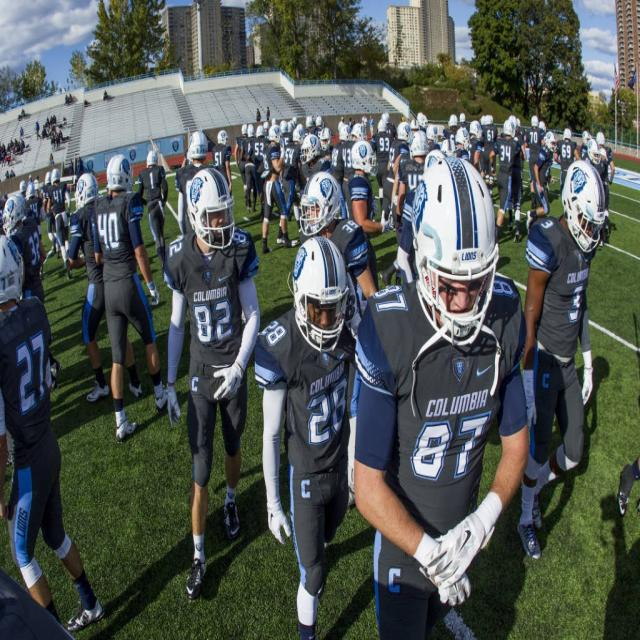body: (348, 149, 533, 639), (80, 439, 320, 628), (0, 223, 106, 639), (162, 167, 262, 603), (252, 234, 357, 640), (516, 162, 606, 562), (44, 261, 205, 440), (302, 171, 380, 511), (515, 341, 618, 564), (91, 152, 168, 440), (67, 172, 143, 402), (396, 147, 448, 286), (416, 111, 499, 197), (394, 129, 430, 286), (260, 122, 298, 256), (174, 128, 220, 238), (2, 192, 45, 303), (136, 148, 170, 284), (488, 118, 522, 252), (499, 179, 564, 245), (276, 126, 306, 247), (524, 130, 556, 236), (379, 120, 412, 221), (368, 117, 394, 227), (46, 168, 72, 271), (508, 114, 528, 244), (594, 130, 616, 248), (338, 121, 363, 224), (246, 123, 272, 220), (331, 122, 355, 224), (233, 204, 289, 246), (553, 127, 581, 200), (525, 114, 546, 210), (298, 132, 332, 182), (240, 123, 258, 213), (211, 128, 233, 200), (368, 230, 398, 278), (41, 169, 57, 255), (580, 124, 600, 188), (260, 116, 302, 146), (278, 119, 294, 195), (258, 296, 290, 332), (42, 114, 71, 153), (506, 114, 550, 139), (233, 123, 248, 196), (0, 137, 31, 167), (17, 172, 41, 205), (25, 183, 43, 222), (318, 125, 337, 158), (67, 156, 87, 186), (380, 112, 398, 138), (302, 114, 324, 132), (178, 146, 190, 178), (0, 190, 9, 225), (337, 116, 347, 144), (368, 112, 375, 140), (34, 117, 42, 141), (360, 113, 366, 136), (346, 116, 355, 130), (63, 93, 73, 105), (265, 105, 271, 121), (256, 107, 262, 122), (103, 88, 108, 102), (20, 107, 25, 119), (400, 113, 406, 123), (19, 126, 23, 138)
